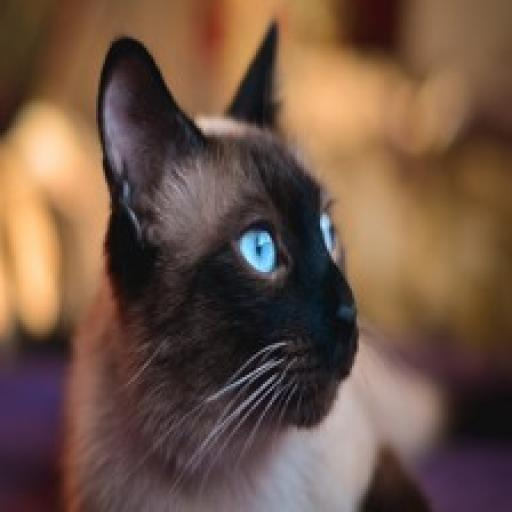cat: (46, 11, 441, 512)
